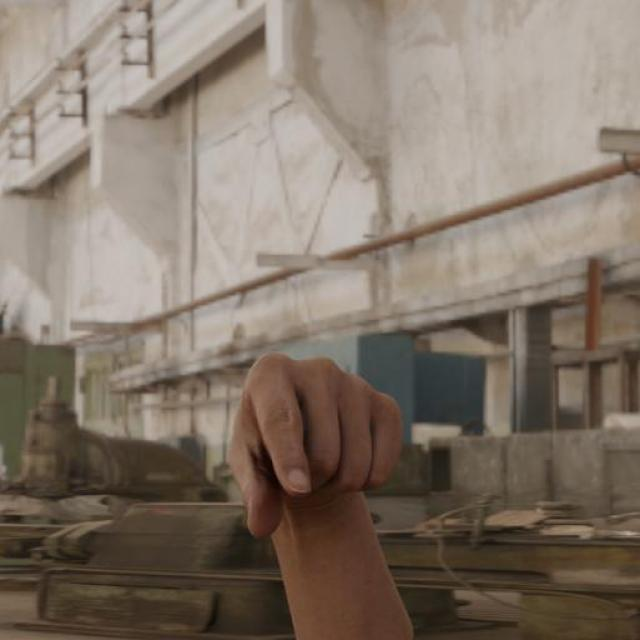Q: (224, 348, 407, 543)
